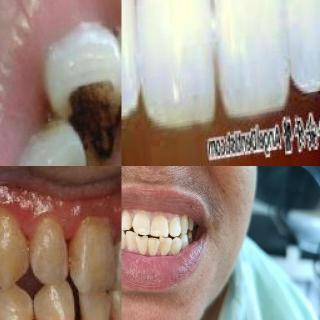maligned: (46, 13, 122, 131), (15, 120, 94, 166), (98, 0, 122, 135), (157, 236, 173, 258), (126, 230, 140, 253), (170, 236, 185, 255), (134, 234, 148, 254), (146, 237, 160, 256), (121, 228, 127, 248)
plaque: (159, 242, 171, 256), (168, 245, 180, 257), (149, 246, 160, 258), (138, 243, 146, 255)
stains: (78, 82, 122, 148), (61, 241, 79, 275)
